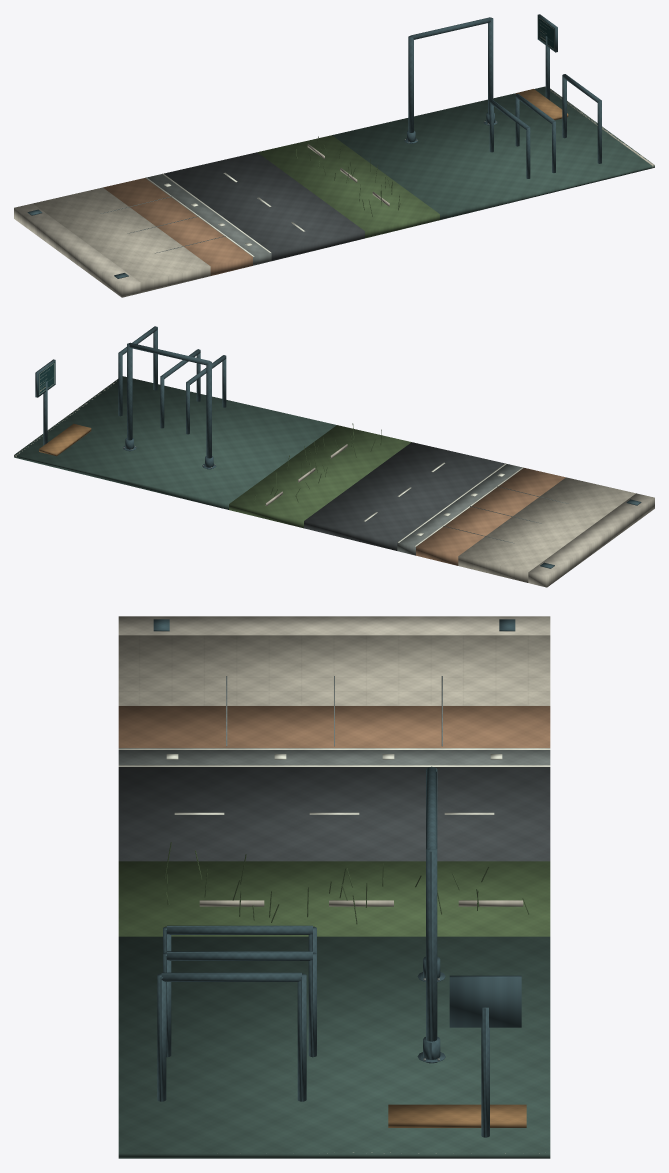
The picture shows the model from 3 angles, top to bottom: view 1: azimuth 30°, elevation 25°; view 2: azimuth 150°, elevation 25°; view 3: azimuth 270°, elevation 25°; orthographic projection. The views are drawn at different scales.
Visible parts, largest first — view 1: VIS_Gym_Rubber, VIS_Cycling_Asphalt, VIS_Planted_Verge, VIS_Pale_Paving, VIS_Running_Granulate, VIS_Powdercoat_Steel, VIS_Limestone_Curb, VIS_Dividing_Granite, VIS_Reflective_Marking, VIS_Oak_Slat; view 2: VIS_Gym_Rubber, VIS_Cycling_Asphalt, VIS_Planted_Verge, VIS_Pale_Paving, VIS_Running_Granulate, VIS_Powdercoat_Steel, VIS_Limestone_Curb, VIS_Dividing_Granite, VIS_Oak_Slat, VIS_Reflective_Marking, VIS_Info_Sign; view 3: VIS_Gym_Rubber, VIS_Cycling_Asphalt, VIS_Pale_Paving, VIS_Planted_Verge, VIS_Running_Granulate, VIS_Powdercoat_Steel, VIS_Limestone_Curb, VIS_Dividing_Granite, VIS_Oak_Slat, VIS_Reflective_Marking.
Part boxes in pixels (<box>): VIS_Gym_Rubber: <box>332,86,654,219</box>; VIS_Cycling_Asphalt: <box>164,152,364,260</box>; VIS_Planted_Verge: <box>257,135,439,238</box>; VIS_Pale_Paving: <box>33,187,210,292</box>; VIS_Running_Granulate: <box>103,178,252,275</box>; VIS_Powdercoat_Steel: <box>27,14,601,278</box>; VIS_Limestone_Curb: <box>14,86,654,297</box>; VIS_Dividing_Granite: <box>100,121,496,265</box>; VIS_Reflective_Marking: <box>145,172,304,256</box>; VIS_Oak_Slat: <box>516,89,568,120</box>; VIS_Gym_Rubber: <box>14,376,336,509</box>; VIS_Cycling_Asphalt: <box>304,442,504,550</box>; VIS_Planted_Verge: <box>229,423,411,528</box>; VIS_Pale_Paving: <box>458,477,635,582</box>; VIS_Running_Granulate: <box>416,468,565,565</box>; VIS_Powdercoat_Steel: <box>35,326,641,568</box>; VIS_Limestone_Curb: <box>14,380,654,587</box>; VIS_Dividing_Granite: <box>123,446,568,555</box>; VIS_Oak_Slat: <box>39,423,91,456</box>; VIS_Reflective_Marking: <box>364,462,523,546</box>; VIS_Info_Sign: <box>38,362,55,395</box>; VIS_Gym_Rubber: <box>118,936,550,1158</box>; VIS_Cycling_Asphalt: <box>118,767,550,861</box>; VIS_Pale_Paving: <box>118,635,550,705</box>; VIS_Planted_Verge: <box>118,842,550,936</box>; VIS_Running_Granulate: <box>118,706,550,747</box>; VIS_Powdercoat_Steel: <box>153,619,521,1137</box>; VIS_Limestone_Curb: <box>118,616,550,1153</box>; VIS_Dividing_Granite: <box>118,676,550,1060</box>; VIS_Oak_Slat: <box>388,1104,526,1127</box>; VIS_Reflective_Marking: <box>118,748,550,814</box>.
Size of the model in its own units: 11.4 by 2.36 by 4.
11 materials, 11 textured.
